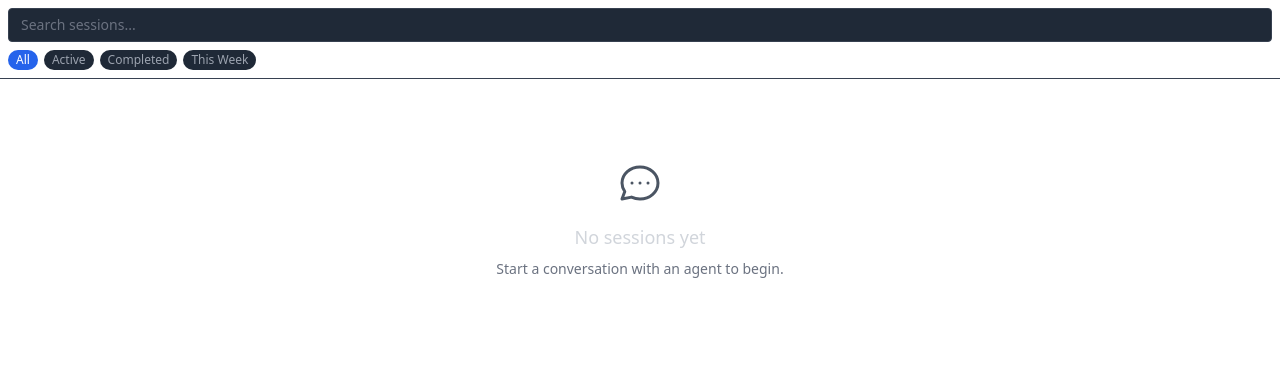
Scenario: SessionList › empty state › Clear Search button in empty state clears search
In the field with placeholder "Search sessions...": (640, 25) x1=8 y1=8 x2=1272 y2=42, type "test"
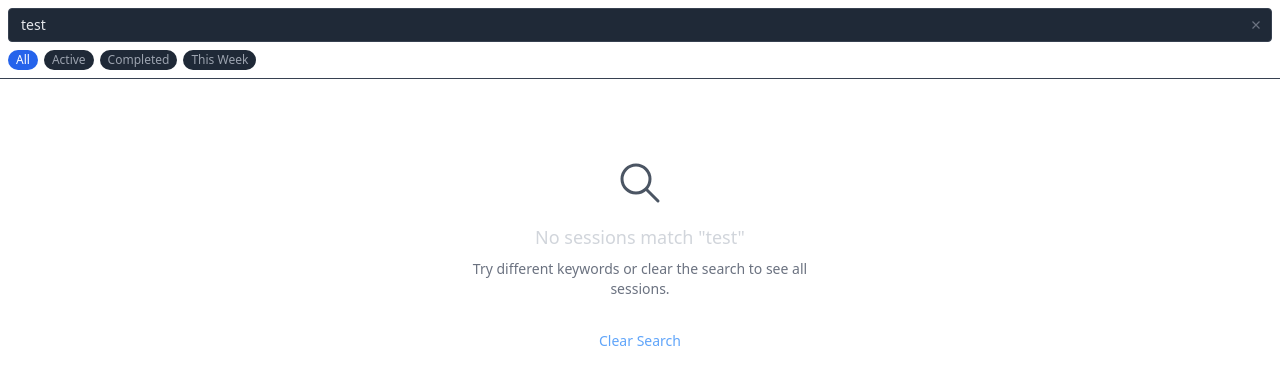
Click the button "Clear Search": (640, 341) x1=599 y1=331 x2=681 y2=351
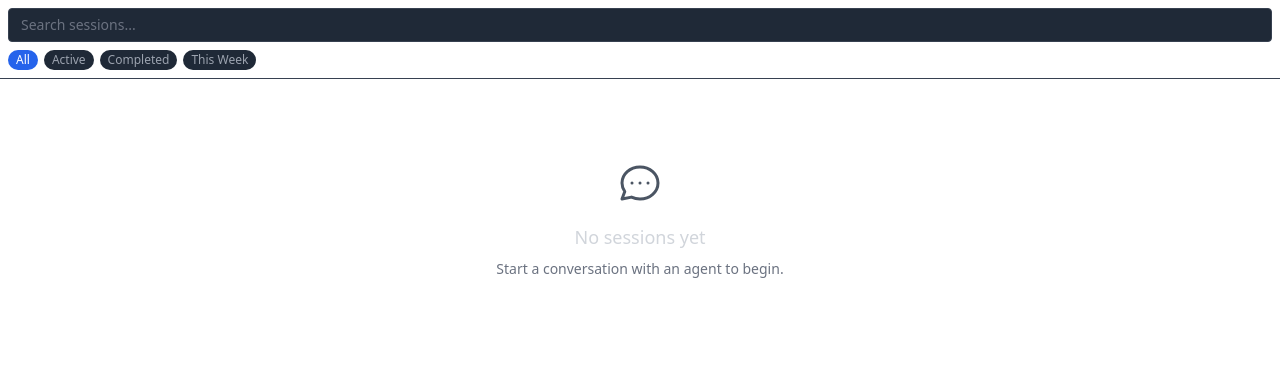
Expected: the field with placeholder "Search sessions..." is empty, x1=8 y1=8 x2=1272 y2=42
